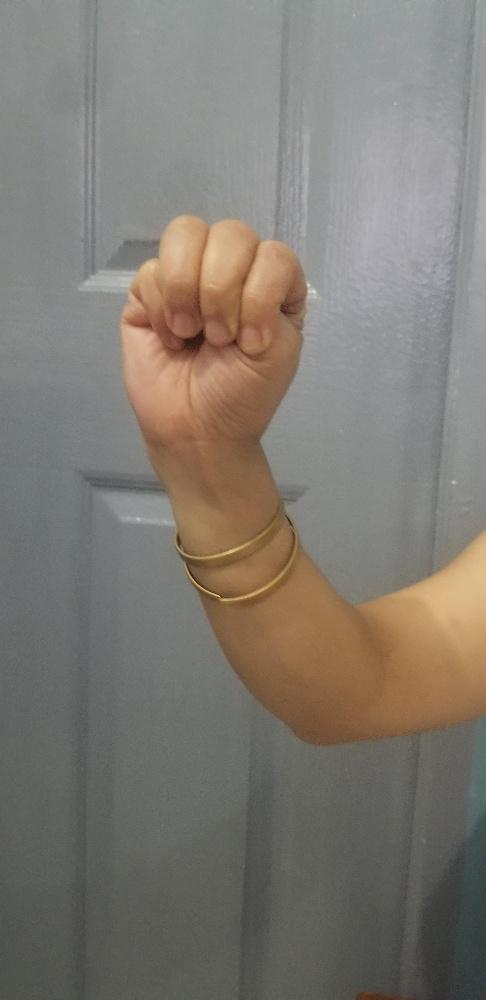m: (117, 212, 309, 443)
